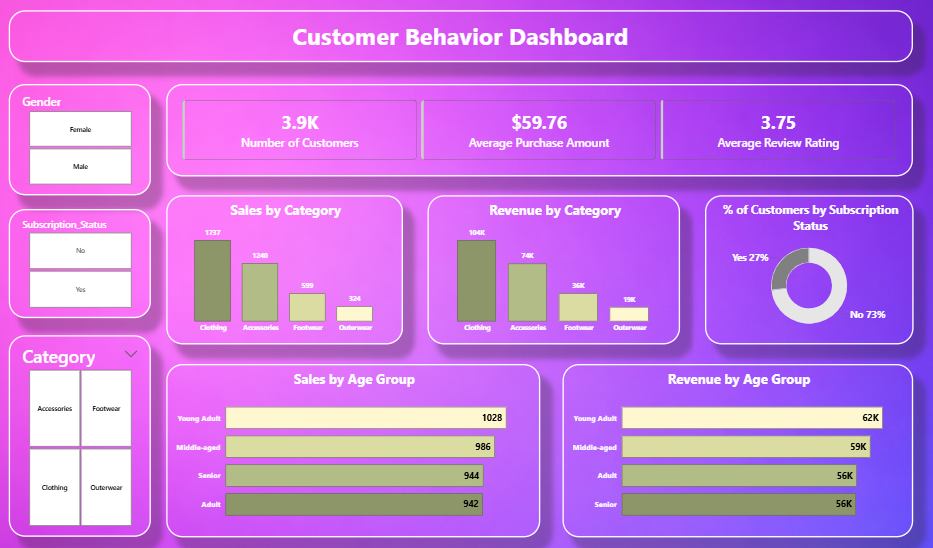

This screenshot's page, from the dashboard's own definition file:
{"tool":"powerbi","page":{"name":"Page 1","canvas":[1700,1000],"ordinal":0},"visuals":[{"type":"cardVisual","fields":{"Data":["customer_behaviour mytable.Number of Customers","customer_behaviour mytable.Average Purchase Amount","customer_behaviour mytable.Average Review Rating"]},"box":[302.5,154.9,1357.7,167.7],"z":0},{"type":"textbox","box":[16.4,20,1643.9,94.8],"z":1000},{"type":"donutChart","title":"% of Customers by Subscription Status","fields":{"Category":["customer_behaviour mytable.subscription_status"],"Y":["CountNonNull(customer_behaviour mytable.customer_id)"]},"box":[1281.2,357.2,379.1,271.5],"z":2000},{"type":"clusteredColumnChart","title":"Revenue by Category","fields":{"Y":["Sum(customer_behaviour mytable.purchase_amount)"],"Category":["customer_behaviour mytable.category"]},"box":[778.2,357.2,459.3,271.5],"z":3000},{"type":"clusteredColumnChart","title":"Sales by Category","fields":{"Category":["customer_behaviour mytable.category"],"Y":["CountNonNull(customer_behaviour mytable.customer_id)"]},"box":[302.5,357.2,430.1,271.5],"z":4000},{"type":"clusteredBarChart","title":"Revenue by Age Group","fields":{"Category":["customer_behaviour mytable.age_group"],"Y":["Sum(customer_behaviour mytable.purchase_amount)"]},"box":[1022.4,663.4,637.9,315.3],"z":5000},{"type":"clusteredBarChart","title":"Sales by Age Group","fields":{"Category":["customer_behaviour mytable.age_group"],"Y":["CountNonNull(customer_behaviour mytable.customer_id)"]},"box":[302.5,663.4,679.8,315.3],"z":6000},{"type":"slicer","title":"Gender","fields":{"Values":["customer_behaviour mytable.gender"]},"box":[16.4,154.9,258.8,202.3],"z":7000},{"type":"slicer","title":"Gender","fields":{"Values":["customer_behaviour mytable.subscription_status"]},"box":[16.4,382.7,258.8,198.6],"z":8000},{"type":"slicer","title":"Gender","fields":{"Values":["customer_behaviour mytable.category"]},"box":[16.4,612.4,258.8,366.3],"z":9000}]}

Visuals, with their boxes in screenshot pixels (x1, y1, x2, y2), scaled from the page's 1700x1000 canvas onto the 933x548 screenshot:
cardVisual - customer_behaviour mytable.Number of Customers x customer_behaviour mytable.Average Purchase Amount: BBox(166, 85, 911, 177)
textbox: BBox(9, 11, 911, 63)
"% of Customers by Subscription Status" donutChart: BBox(703, 196, 911, 345)
"Revenue by Category" clusteredColumnChart: BBox(427, 196, 679, 345)
"Sales by Category" clusteredColumnChart: BBox(166, 196, 402, 345)
"Revenue by Age Group" clusteredBarChart: BBox(561, 364, 911, 536)
"Sales by Age Group" clusteredBarChart: BBox(166, 364, 539, 536)
"Gender" slicer: BBox(9, 85, 151, 196)
"Gender" slicer: BBox(9, 210, 151, 319)
"Gender" slicer: BBox(9, 336, 151, 536)
